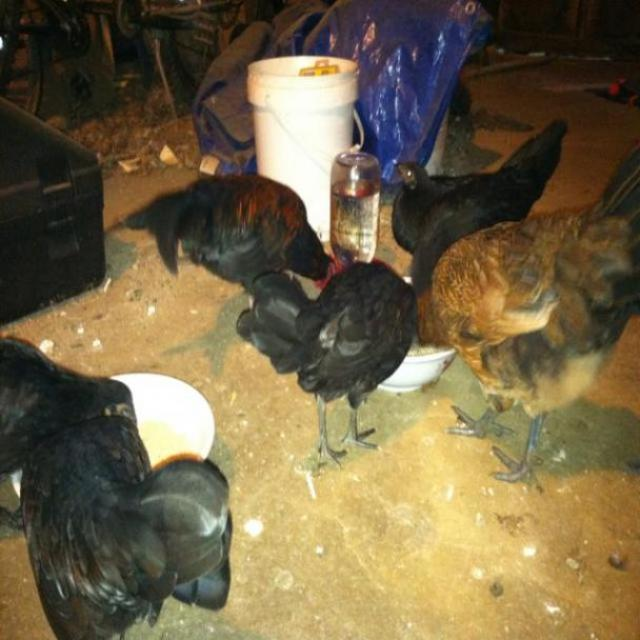Chicken: (412, 144, 640, 492), (17, 416, 236, 640), (239, 255, 417, 478), (113, 171, 343, 308), (392, 118, 567, 294)
